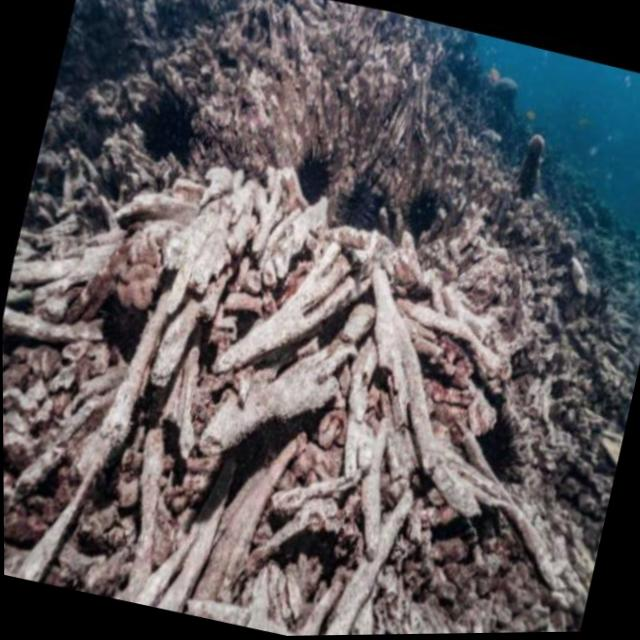Dead Coral: (0, 34, 631, 640)
